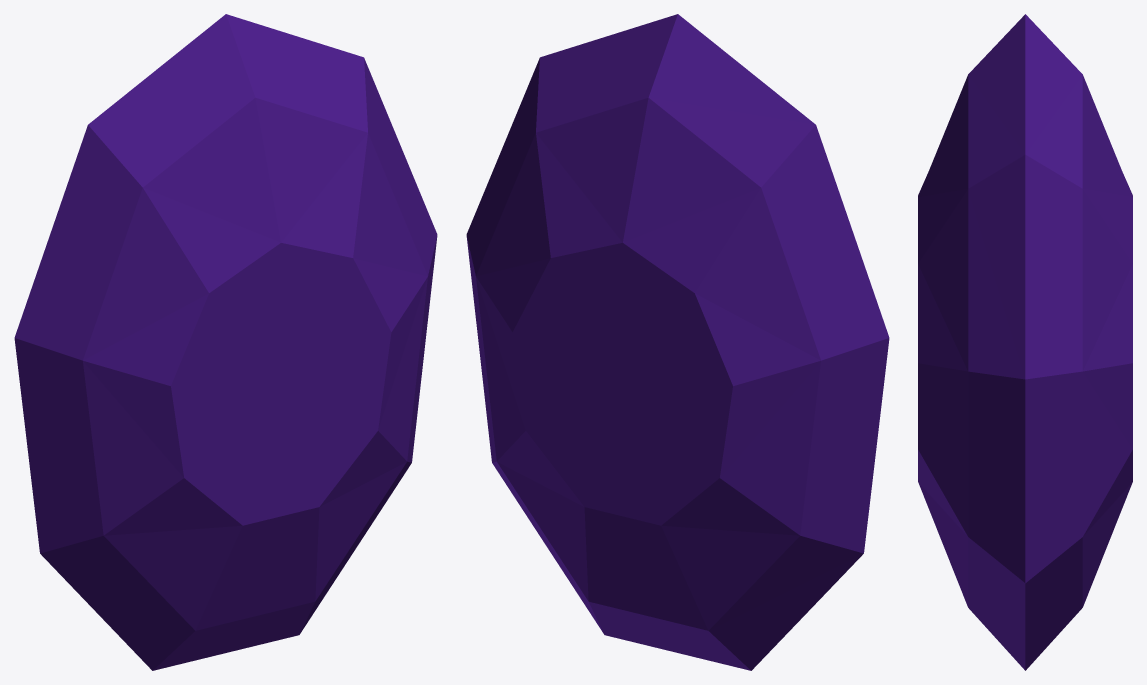
Rendered from deraumere.glb.
3 views of the same model, side by side, from view 1: azimuth 30°, elevation 25°; view 2: azimuth 150°, elevation 25°; view 3: azimuth 270°, elevation 25° (orthographic). The views are drawn at different scales.
Visible parts, largest first — view 1: Jewel_05_Circle.002; view 2: Jewel_05_Circle.002; view 3: Jewel_05_Circle.002.
Part boxes in pixels (box(x1,y1,x2,y2)): Jewel_05_Circle.002: box(14, 14, 437, 670); Jewel_05_Circle.002: box(466, 14, 889, 670); Jewel_05_Circle.002: box(918, 14, 1132, 670).
Bounding box in the file's own units: 5.61 × 8.09 × 2.53.
